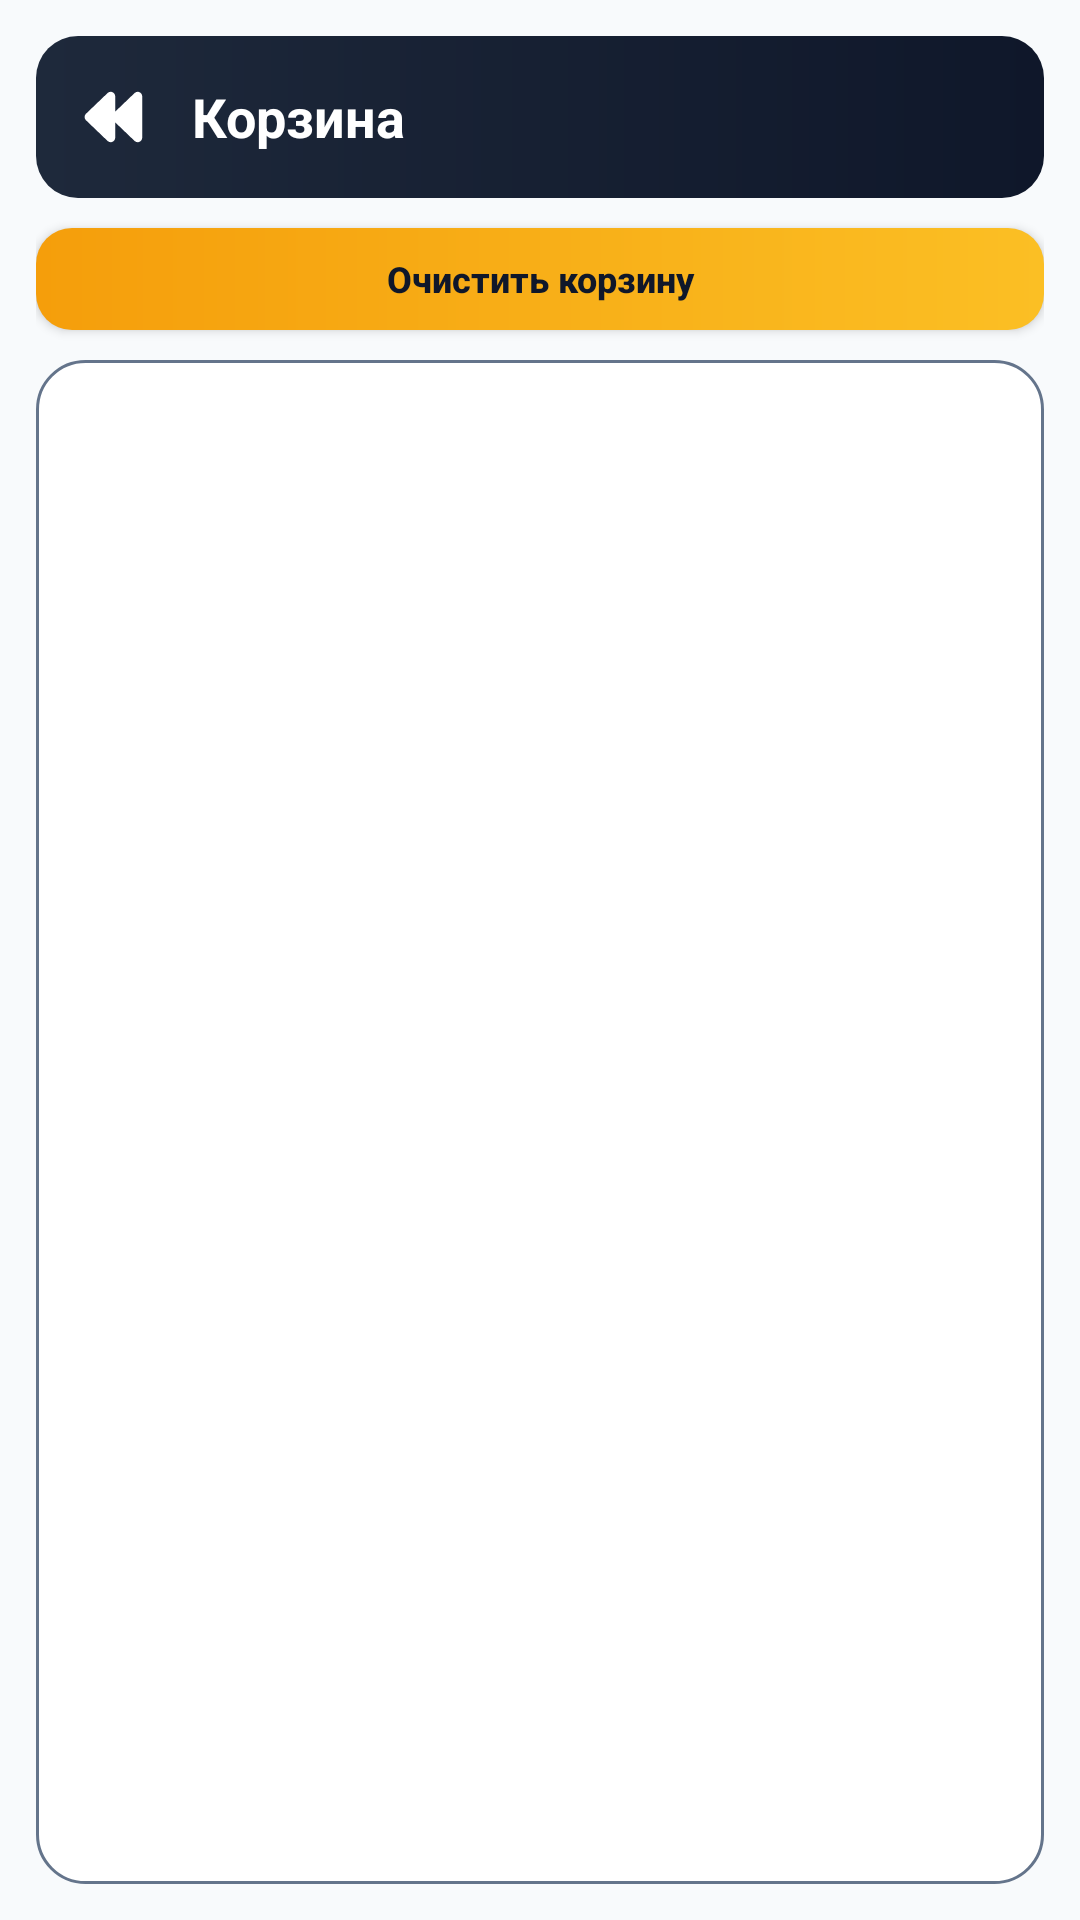

Point at icon controls on the screen. Image size 1080 x 1920, points as (x,y).
backward: (113,117)
